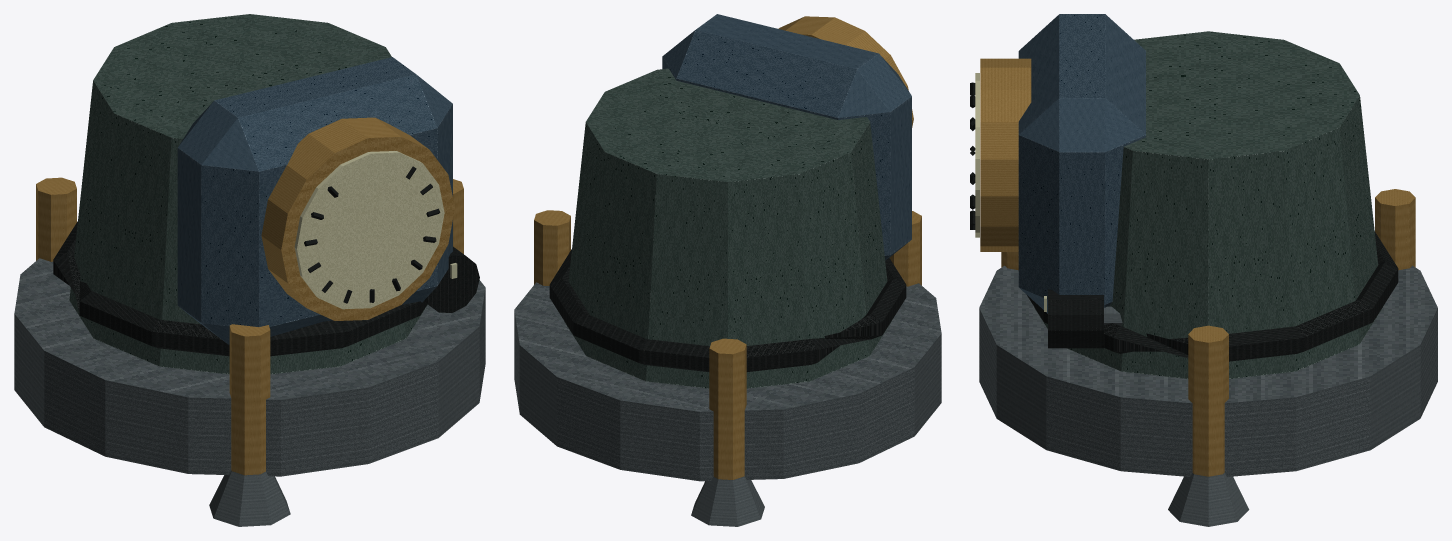
Rendered from blender_seismic_recorder_1.glb.
3 renders of one model, left to right at view 1: azimuth 30°, elevation 25°; view 2: azimuth 150°, elevation 25°; view 3: azimuth 270°, elevation 25°, orthographic. The views are drawn at different scales.
Visible parts, largest first — view 1: blender_seismic_recorder_1; view 2: blender_seismic_recorder_1; view 3: blender_seismic_recorder_1.
Part boxes in pixels (x1=…): blender_seismic_recorder_1: x1=14, y1=14, x2=485, y2=526; blender_seismic_recorder_1: x1=514, y1=14, x2=941, y2=526; blender_seismic_recorder_1: x1=970, y1=14, x2=1437, y2=526.
Bounding box in the file's own units: 0.0953 × 0.0785 × 0.0918.
Materials: 7 (7 with a texture image).
